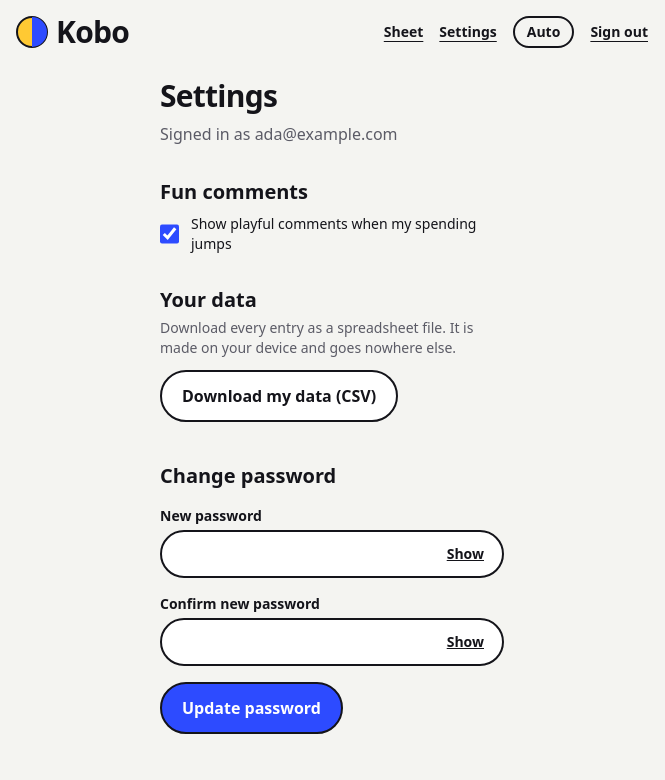
it: SettingsPage › rejects two passwords that do not match
expect the heading "Settings" is shown: met, box [160,75,277,116]
In the password field labelled "New password": (332, 554) [160,530,504,578], type "a-long-enough-password"
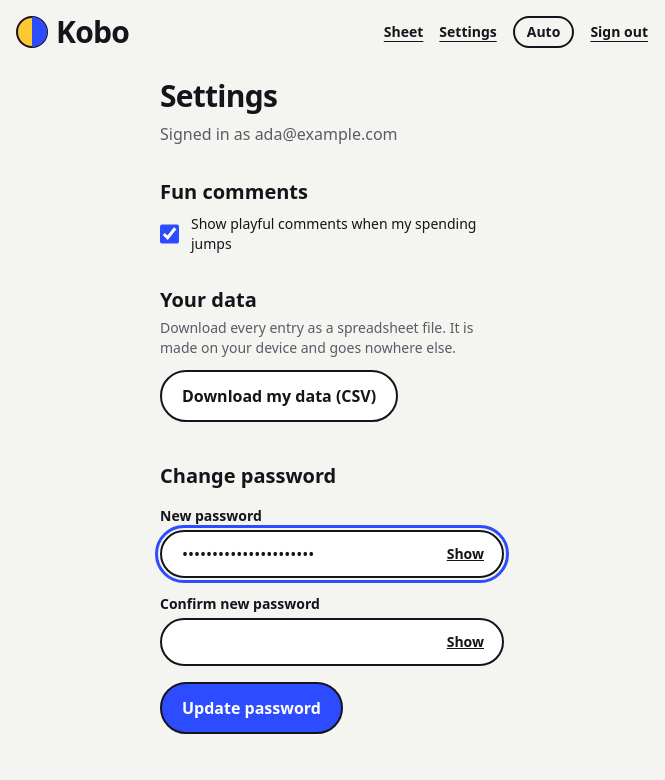
In the password field labelled "Confirm new password": (332, 642) [160,618,504,666], type "a-different-password"
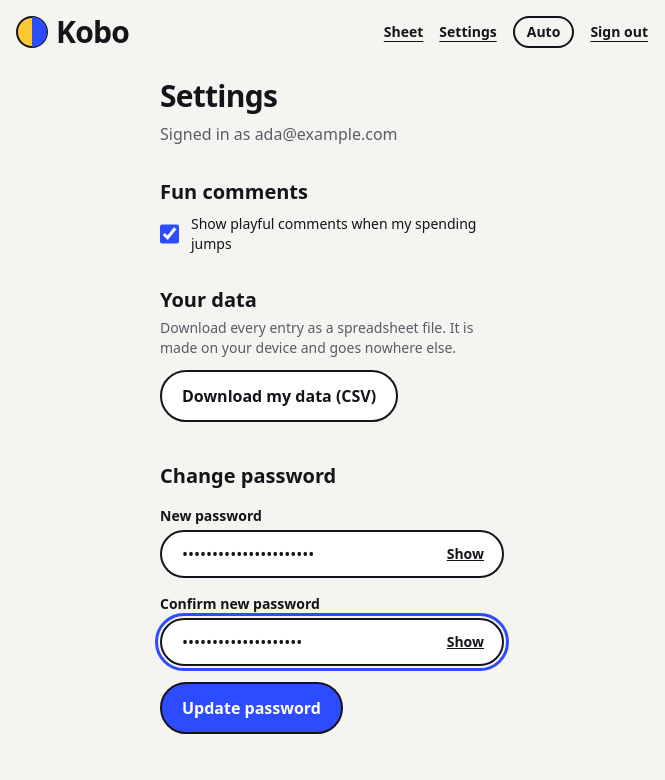
Click the button "Update password": (252, 708) [160,682,343,734]
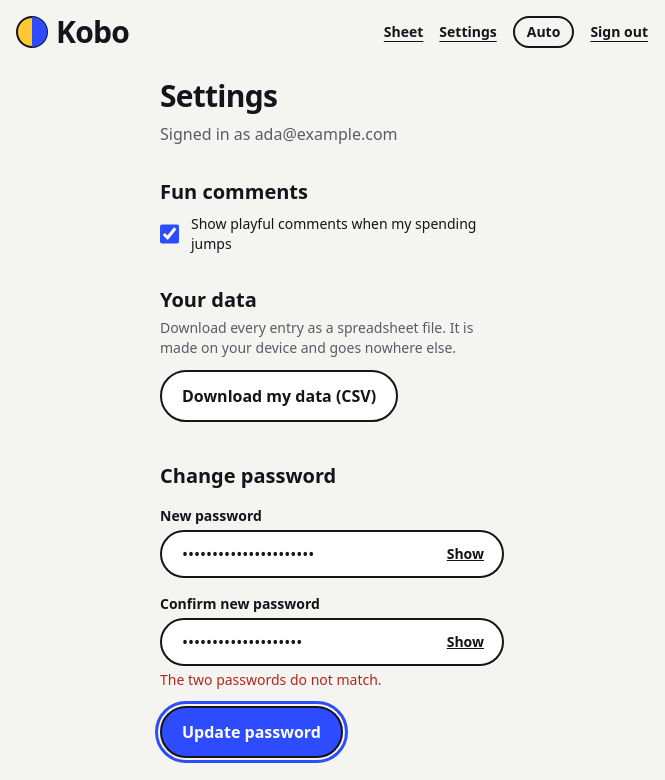
expect the text "The two passwords do not match." is shown: met, box [160,670,382,689]
